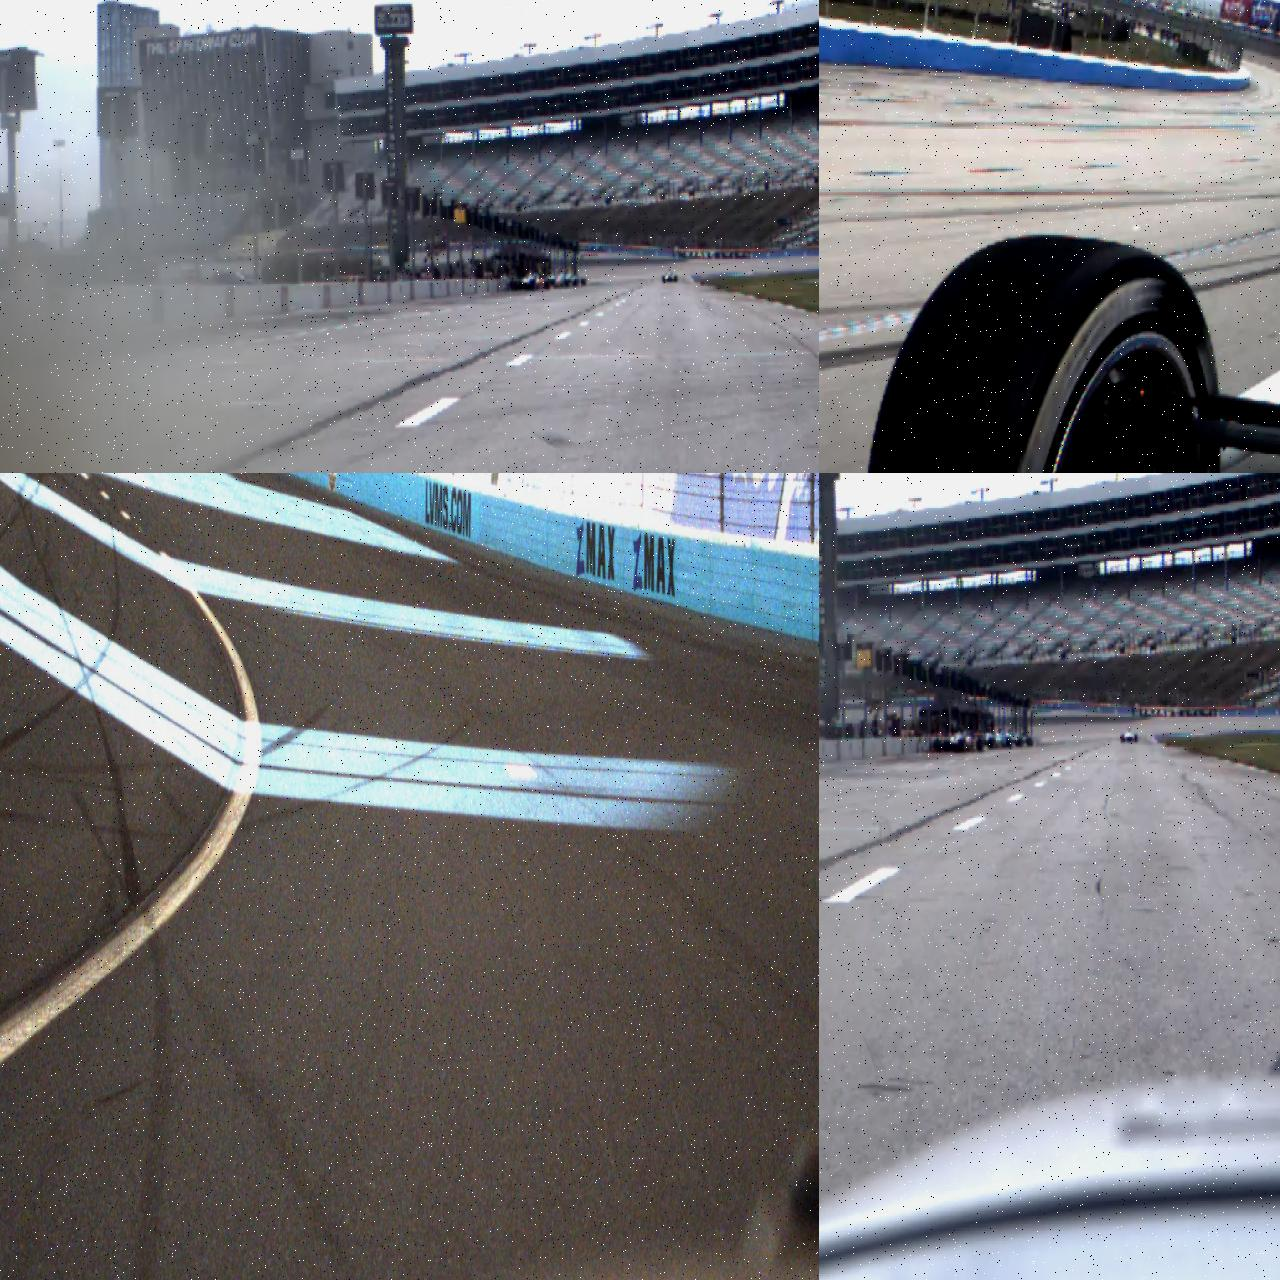AV: (1121, 727, 1138, 743), (662, 269, 678, 283)
Wheel: (863, 234, 1224, 473), (958, 736, 966, 752), (976, 737, 984, 752), (934, 740, 942, 752), (988, 736, 994, 750), (1006, 737, 1012, 748), (1026, 738, 1032, 748), (1016, 737, 1022, 747), (530, 280, 534, 290), (582, 278, 586, 286), (574, 279, 578, 287), (566, 280, 570, 288), (1120, 734, 1124, 742), (674, 276, 678, 282), (662, 276, 666, 282), (1136, 734, 1138, 742)
